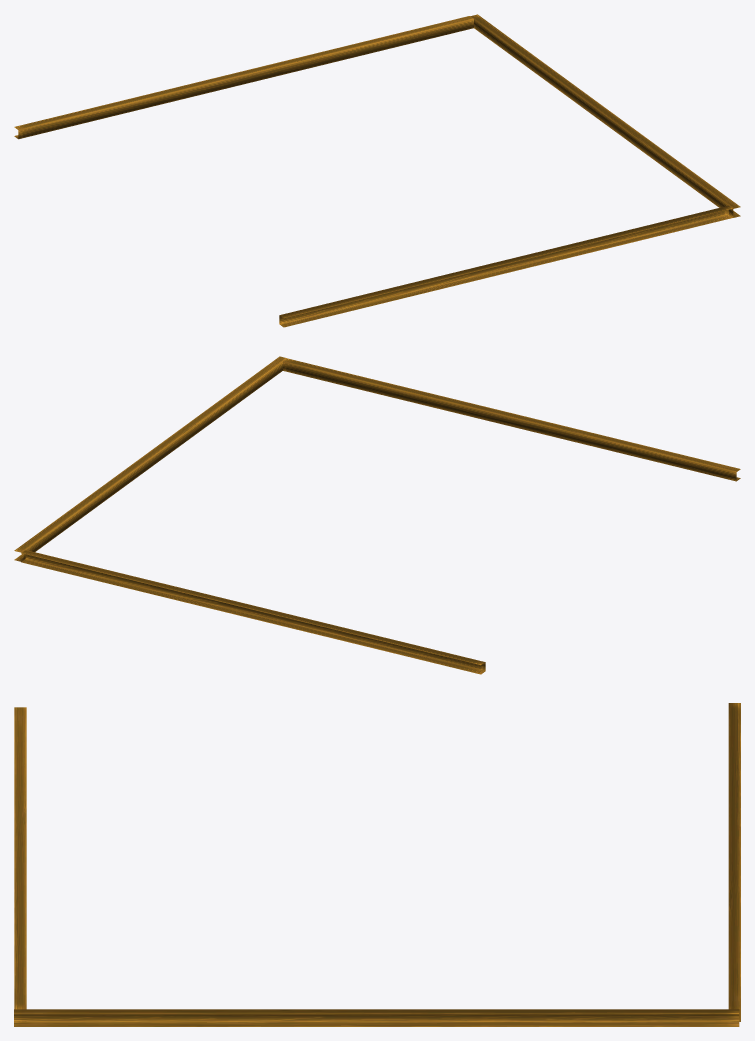
Rendered from HTOWN01_MILLINTRAFTERS-WALK.fbx.
3 renders of one model, top to bottom at view 1: azimuth 30°, elevation 25°; view 2: azimuth 150°, elevation 25°; view 3: azimuth 270°, elevation 25°, orthographic. The views are drawn at different scales.
Visible parts, largest first — view 1: HTOWN01_MILLINTRAFTERS-WALK; view 2: HTOWN01_MILLINTRAFTERS-WALK; view 3: HTOWN01_MILLINTRAFTERS-WALK.
Part boxes in pixels (x1,y1,x2,y2): HTOWN01_MILLINTRAFTERS-WALK: (14,14,740,327); HTOWN01_MILLINTRAFTERS-WALK: (14,356,740,674); HTOWN01_MILLINTRAFTERS-WALK: (14,703,740,1026).
Bounding box in the file's own units: 127627 × 2395 × 125897.
Materials: 1 (1 with a texture image).
